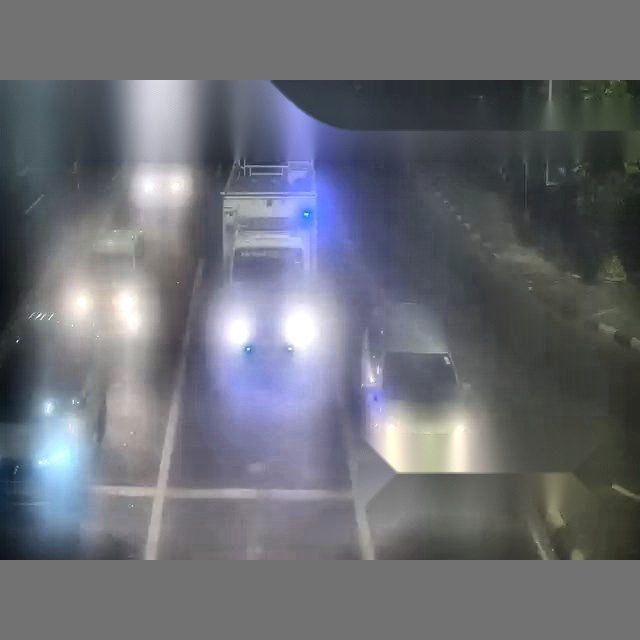Mobil: (362, 304, 472, 472)
